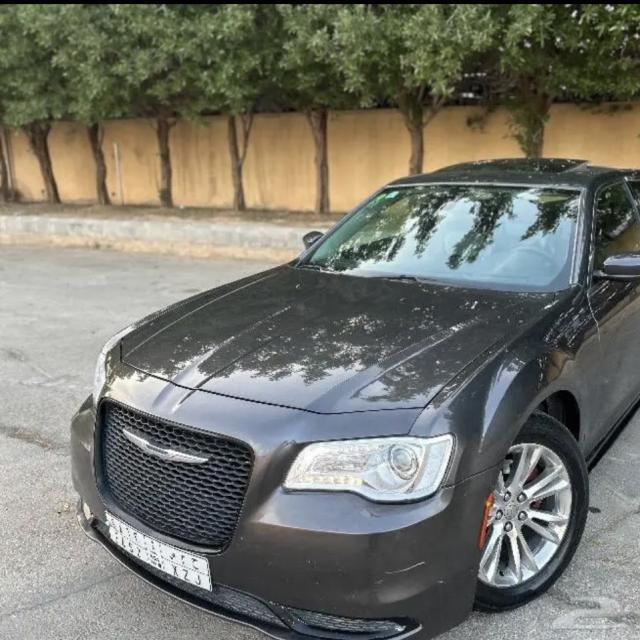license_plate: (105, 515, 211, 590)
